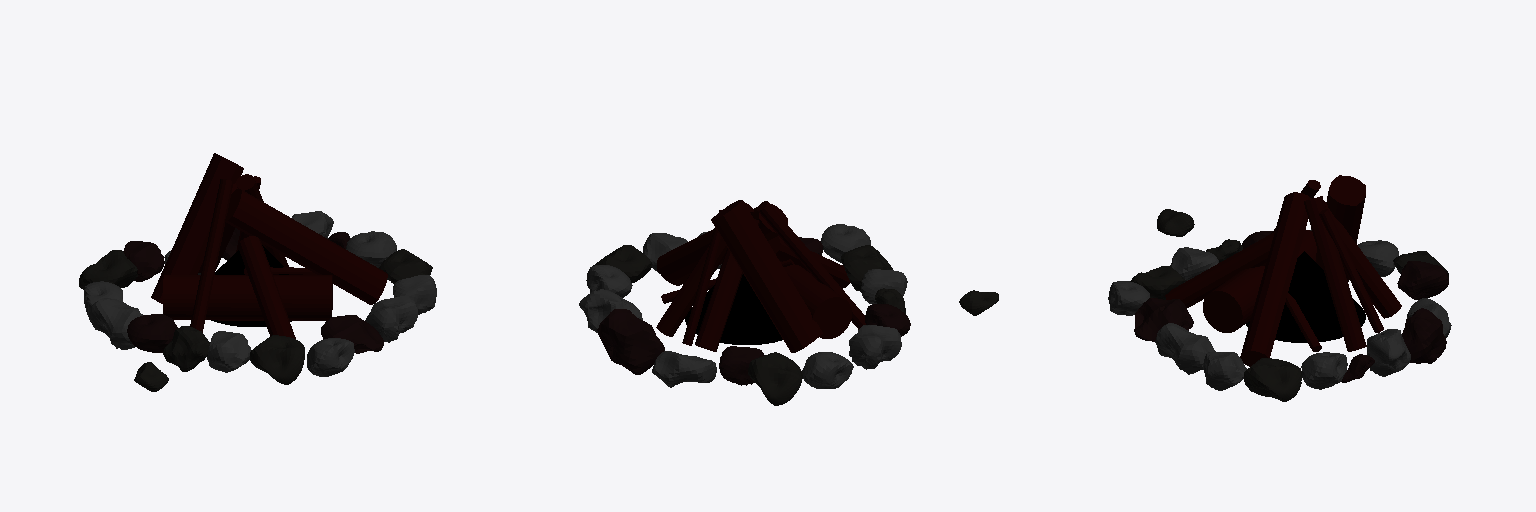
Rendered from Campfire.obj.
3 views of the same model, side by side, from view 1: azimuth 30°, elevation 25°; view 2: azimuth 150°, elevation 25°; view 3: azimuth 270°, elevation 25° (orthographic).
Parts seen in each view (by area): view 1: Cube, Cylinder, Cube.002, Cube.007, Cube.006, Cube.017, Cube.022, Cube.012, Cube.013, Cube.020, Cube.016, Cube.018 (+11 smaller); view 2: Cube.002, Cube.015, Cone, Cylinder, Cube.003, Cube.024, Cube, Cube.006, Cube.022, Cube.021, Cube.001, Cube.023 (+12 smaller); view 3: Cube, Cone, Cylinder, Cube.001, Cube.007, Cube.009, Cube.012, Cube.015, Cube.002, Cube.003, Cube.013, Cube.014 (+12 smaller).
Boxes of the visible parts, x1,y1,x2,y2 form: Cube: [225, 189, 387, 304]; Cylinder: [163, 275, 332, 320]; Cube.002: [151, 153, 243, 303]; Cube.007: [238, 236, 295, 338]; Cube.006: [190, 179, 233, 332]; Cube.017: [250, 335, 304, 384]; Cube.022: [89, 298, 142, 349]; Cube.012: [365, 296, 417, 342]; Cube.013: [321, 315, 383, 353]; Cube.020: [127, 314, 177, 352]; Cube.016: [307, 338, 354, 376]; Cube.018: [163, 326, 209, 371]; Cube.002: [711, 200, 822, 352]; Cube.015: [597, 309, 664, 374]; Cone: [685, 274, 782, 344]; Cylinder: [784, 264, 851, 338]; Cube.003: [695, 219, 759, 351]; Cube.024: [748, 352, 802, 405]; Cube: [657, 204, 787, 285]; Cube.006: [757, 201, 865, 329]; Cube.022: [849, 325, 901, 369]; Cube.021: [652, 351, 716, 387]; Cube.001: [656, 202, 753, 336]; Cube.023: [802, 352, 853, 388]; Cube: [1240, 192, 1311, 366]; Cone: [1246, 251, 1365, 342]; Cylinder: [1203, 229, 1316, 332]; Cube.001: [1304, 196, 1366, 351]; Cube.007: [1165, 232, 1274, 307]; Cube.009: [1244, 358, 1301, 401]; Cube.012: [1155, 323, 1215, 374]; Cube.015: [1402, 308, 1446, 363]; Cube.002: [1316, 175, 1365, 281]; Cube.003: [1324, 201, 1401, 318]; Cube.013: [1134, 298, 1193, 341]; Cube.014: [1367, 329, 1410, 376].
Size of the model in its own units: 1.92 by 0.8228 by 1.63.